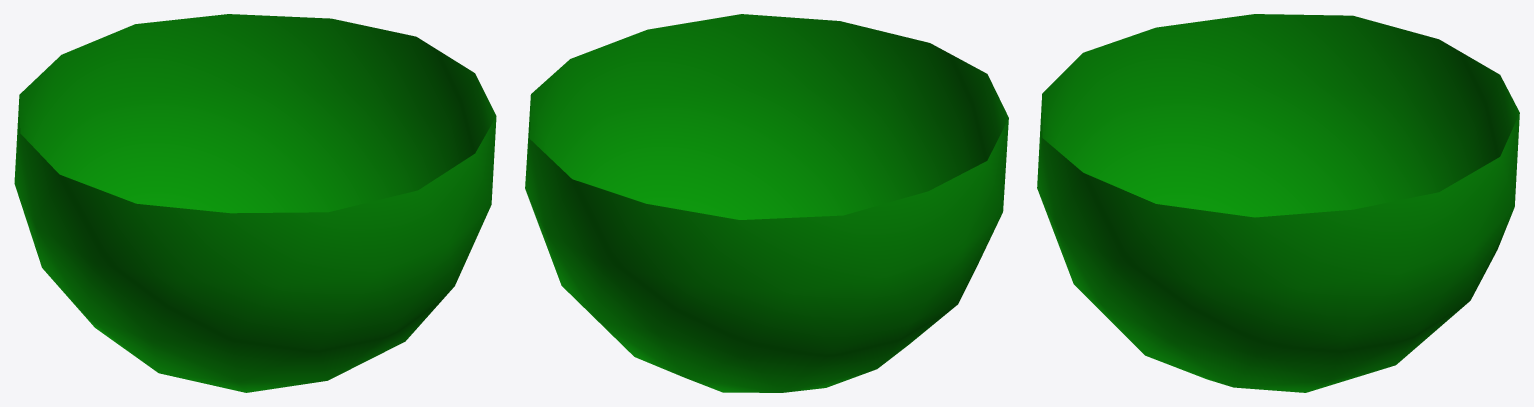
Rendered from original-5.obj.
3 views of the same model, side by side, from view 1: azimuth 30°, elevation 25°; view 2: azimuth 150°, elevation 25°; view 3: azimuth 270°, elevation 25° (orthographic).
Parts seen in each view (by area): view 1: mesh5/mesh5-geometry#mesh5-geometry; view 2: mesh5/mesh5-geometry#mesh5-geometry; view 3: mesh5/mesh5-geometry#mesh5-geometry.
Part boxes in pixels (bbox=[...]): mesh5/mesh5-geometry#mesh5-geometry: bbox=[14, 14, 496, 392]; mesh5/mesh5-geometry#mesh5-geometry: bbox=[525, 14, 1008, 392]; mesh5/mesh5-geometry#mesh5-geometry: bbox=[1037, 14, 1519, 392].
Size of the model in its own units: 0.1126 by 0.067 by 0.1129.
